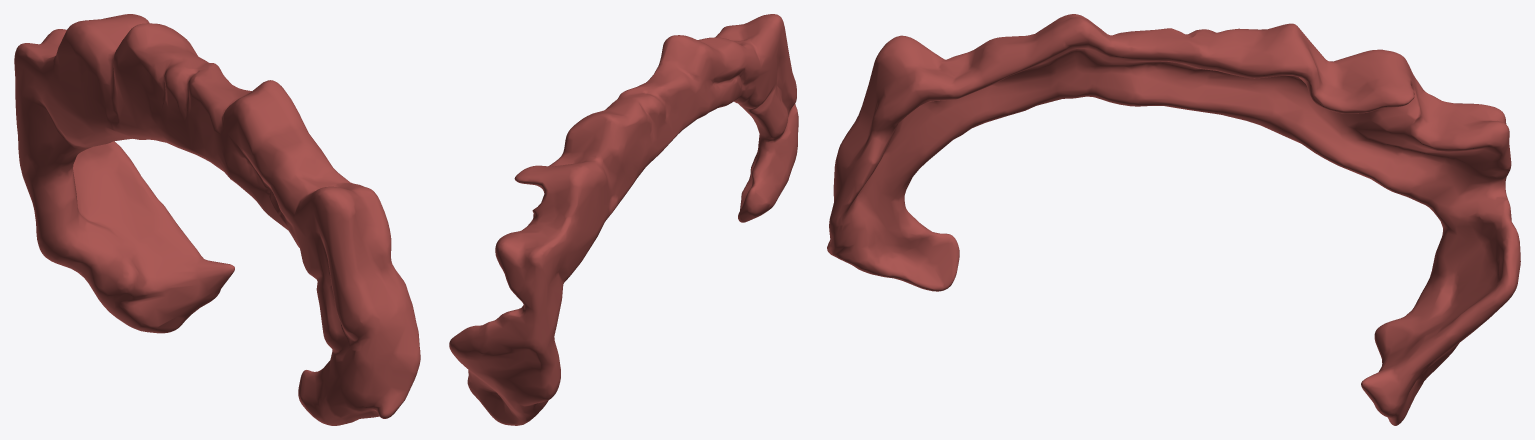
File: FMA72718.glb
3 views of the same model, side by side, from view 1: azimuth 30°, elevation 25°; view 2: azimuth 150°, elevation 25°; view 3: azimuth 270°, elevation 25° (orthographic). The views are drawn at different scales.
Visible parts, largest first — view 1: FMA72718; view 2: FMA72718; view 3: FMA72718.
Boxes of the visible parts, x1,y1,x2,y2 form: FMA72718: [14, 14, 420, 425]; FMA72718: [449, 14, 798, 425]; FMA72718: [827, 14, 1520, 425].
Size of the model in its own units: 0.0268 by 0.0631 by 0.1053.
